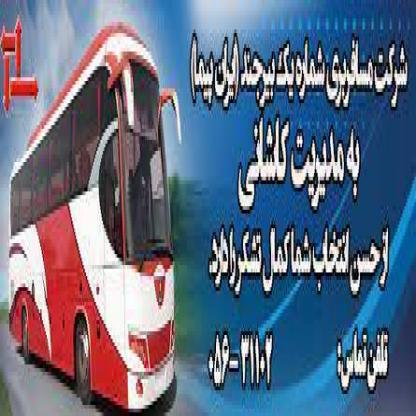Bus: (0, 14, 195, 416)
